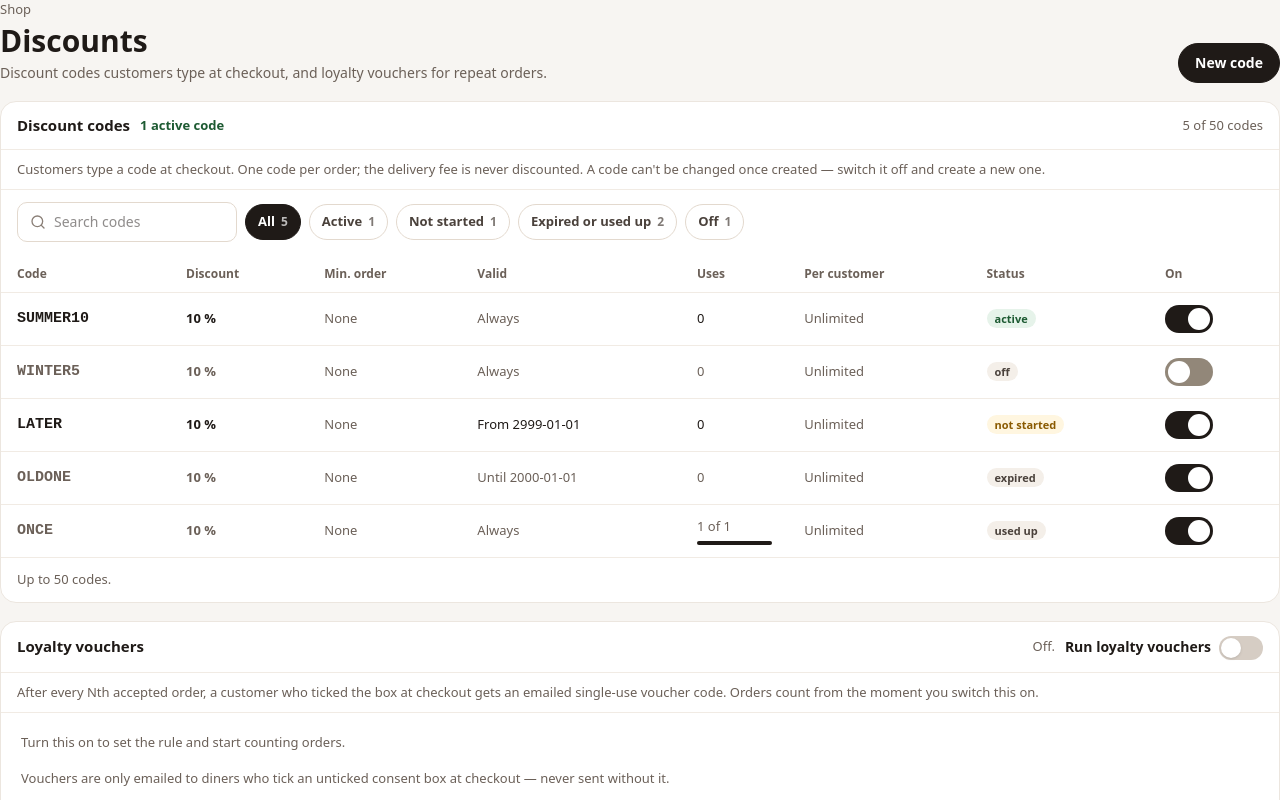
it: PromotionsPage › opens the drawer from the page header and closes it without asking when nothing was typed
Step 1. Click the button "New code" → (1229, 63), box x1=1178 y1=43 x2=1279 y2=83
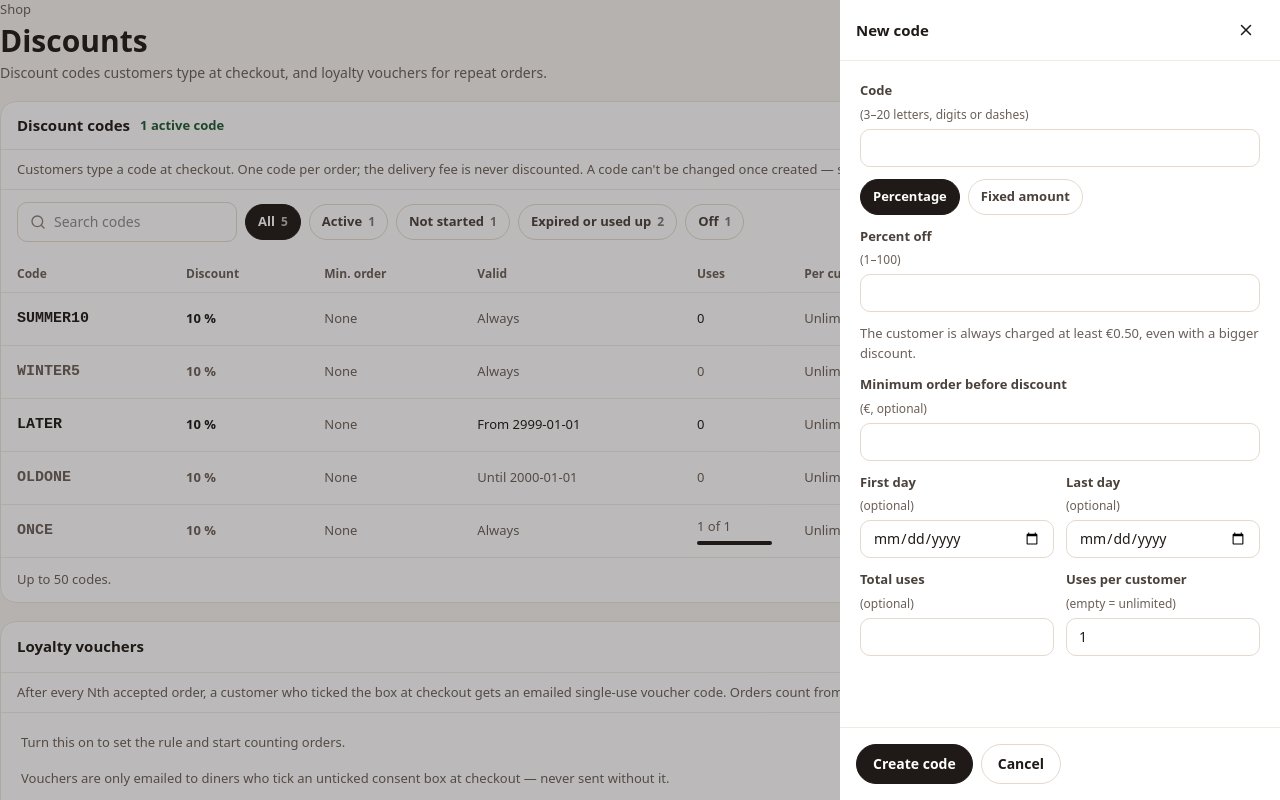
Step 2. Click the button "Cancel" → (1021, 764), box x1=981 y1=744 x2=1061 y2=784
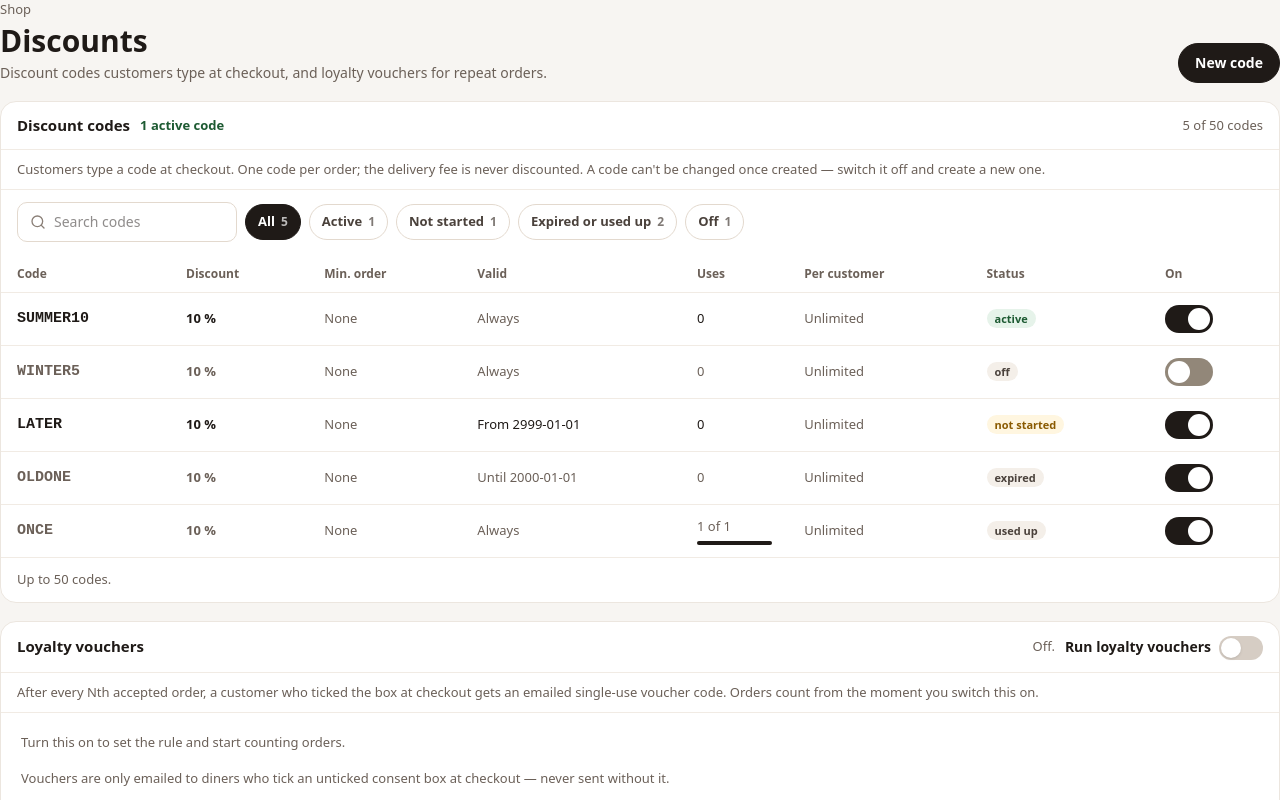
Expected: the dialog is gone
Step 3. Click the button "New code" → (1229, 63), box x1=1178 y1=43 x2=1279 y2=83
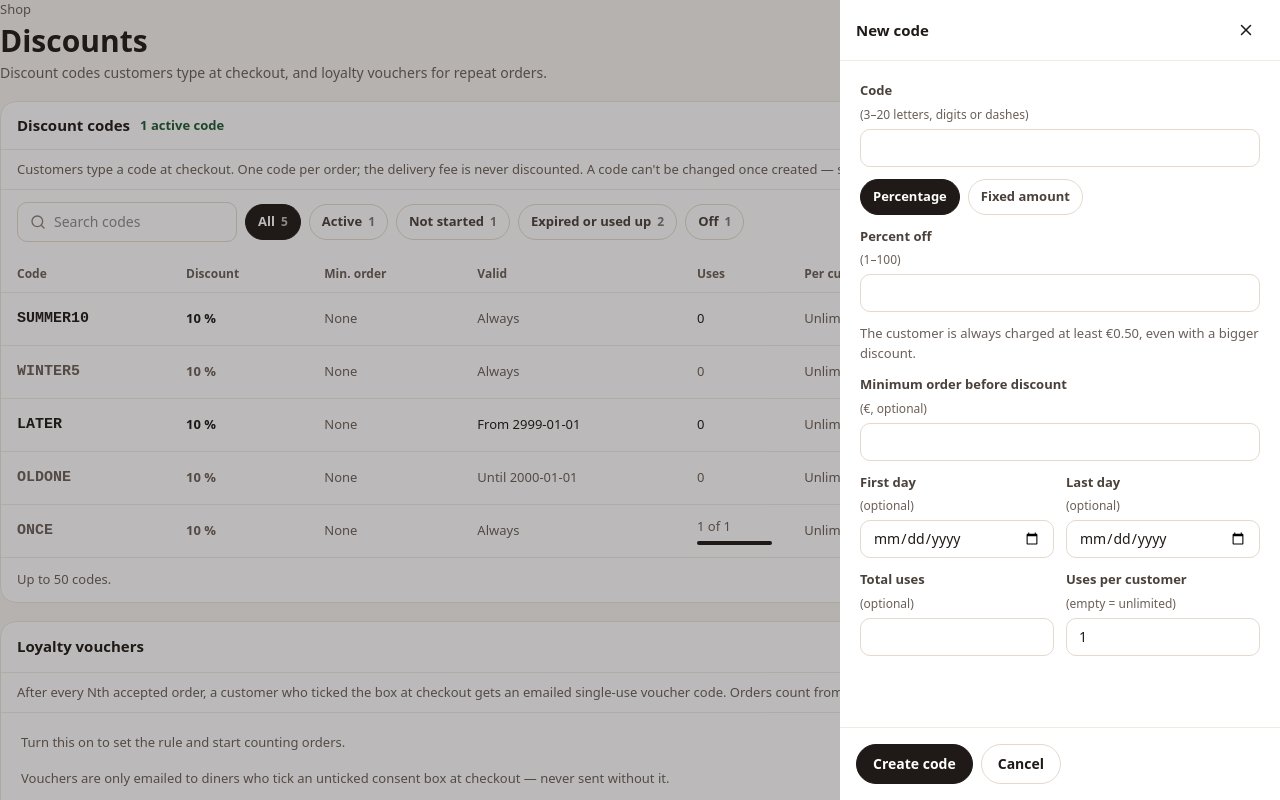
Step 4. Press Escape in the dialog, box x1=840 y1=0 x2=1279 y2=799
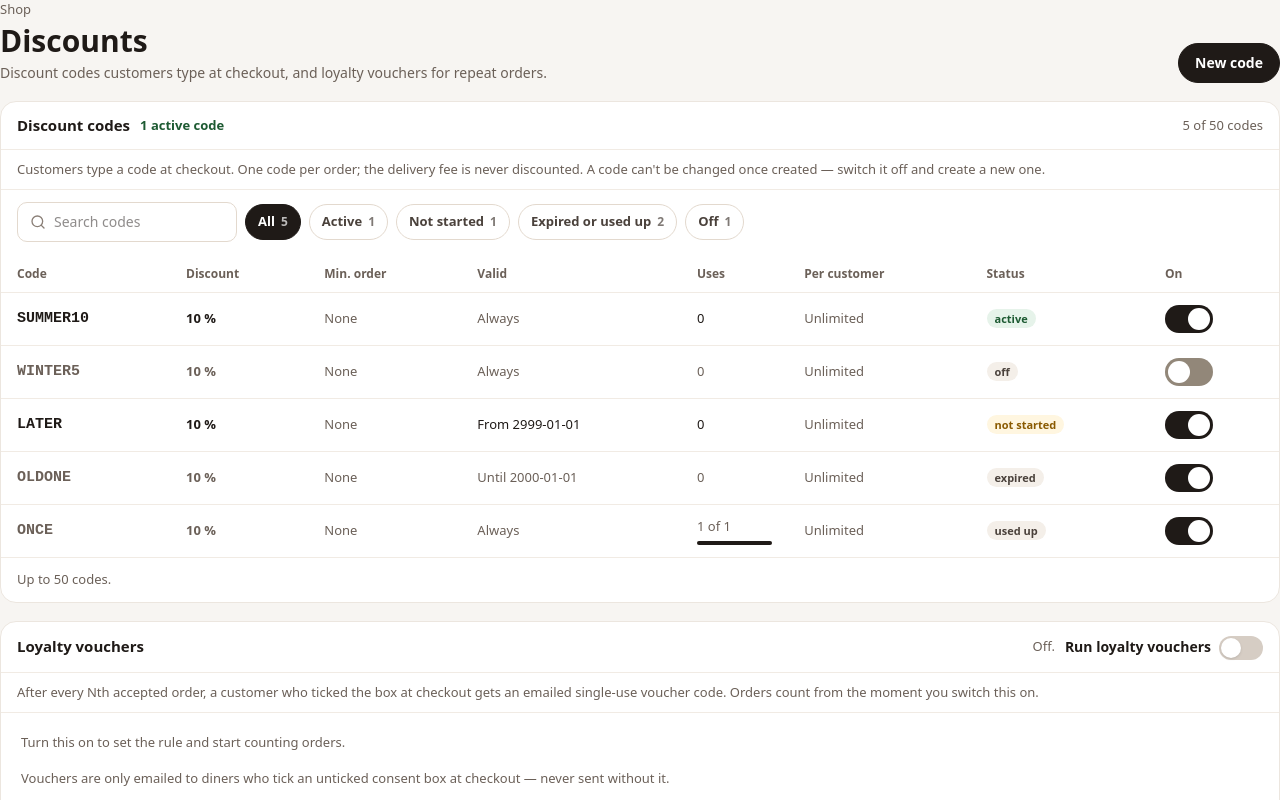
Expected: the dialog is gone
